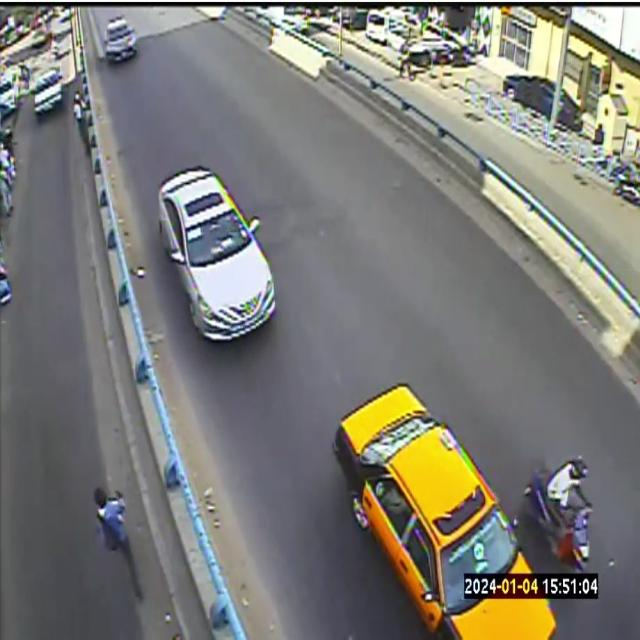car: (333, 384, 556, 639), (158, 167, 274, 340), (104, 16, 137, 61)
